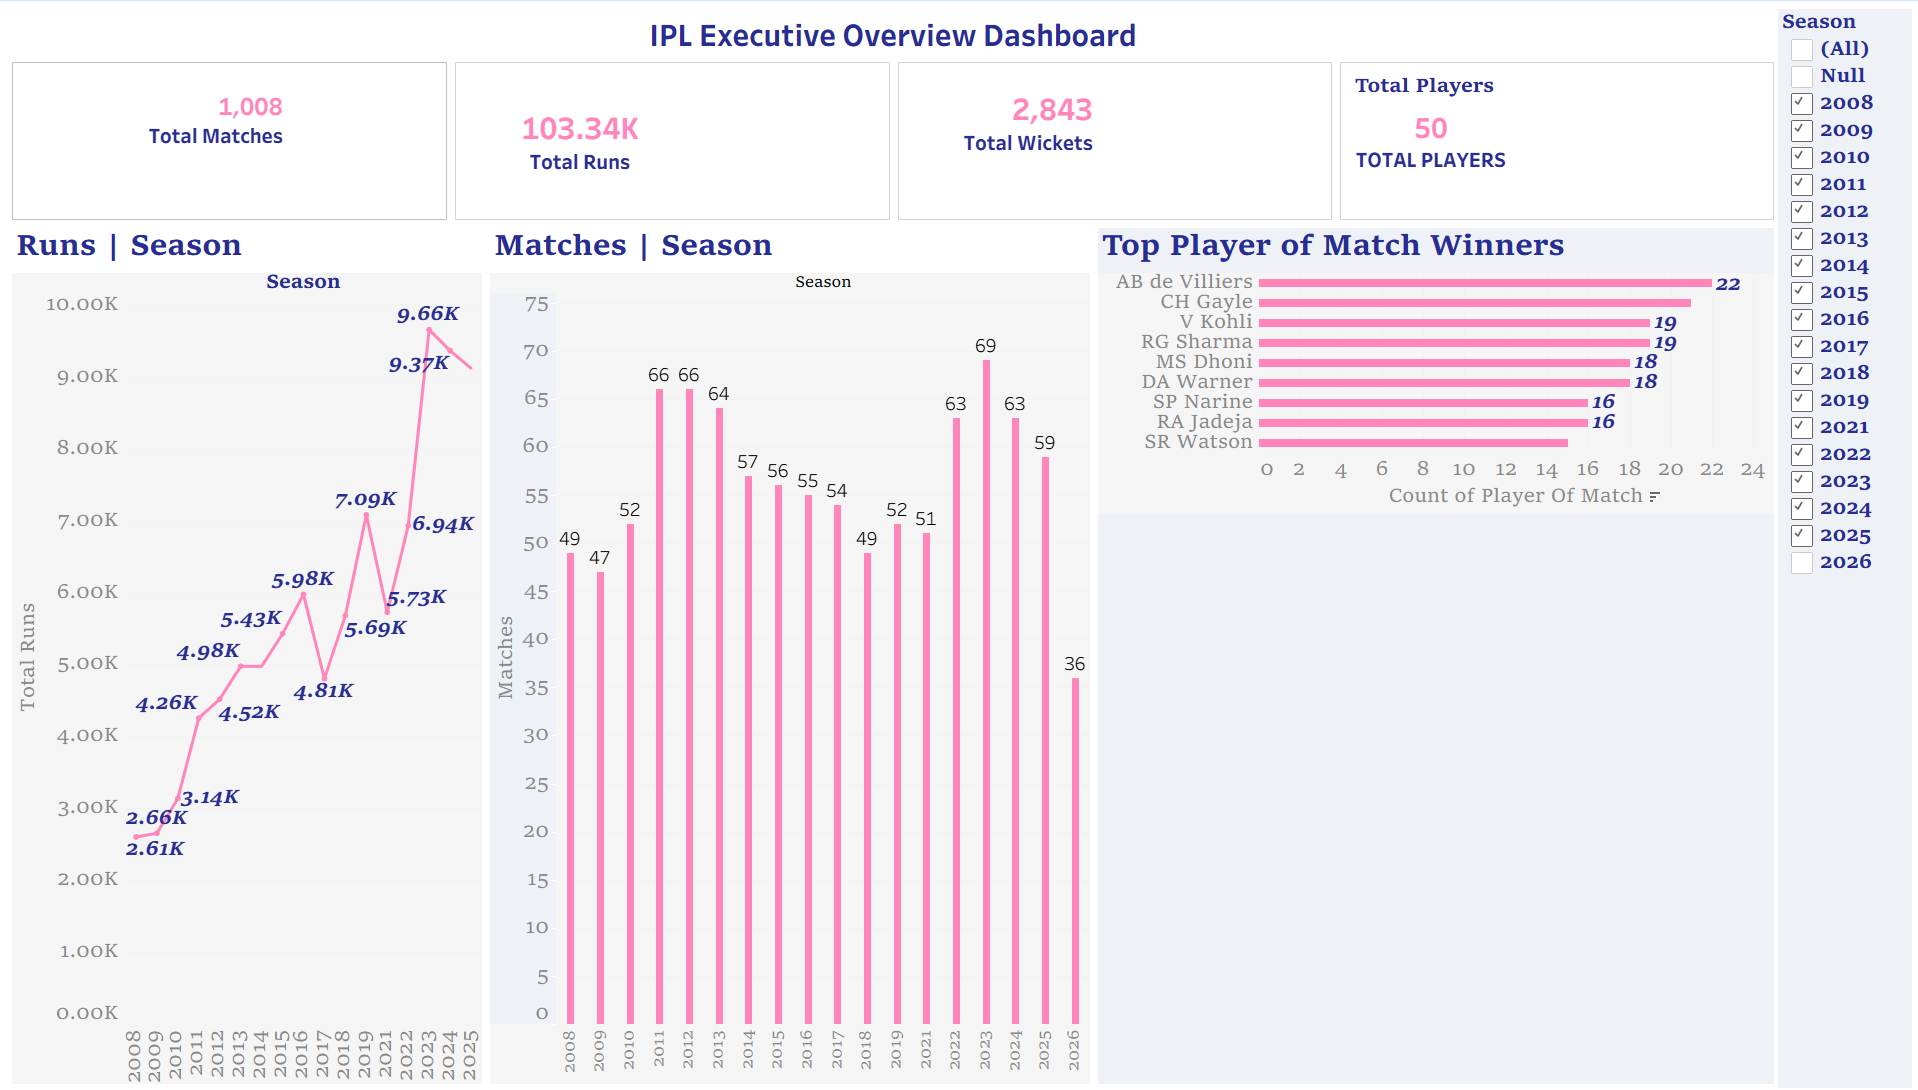

Layout of this report page (visuals, bound fields, positions):
{"tool":"tableau","page":{"name":"IPL Player Scouting Performance Intelligence Dashboard-","canvas":[1000,1000],"units":"permille","ordinal":4},"visuals":[{"type":"title","box":[5.3,9.2,900,56.6]},{"type":"filter","title":"1. Runs by Season","param":"[federated.1uog4mz0wysp1w1ajm3uv0qoibsc].[none:season:ok]","box":[905.3,9.2,89.3,664]},{"type":"worksheet","title":"KPI Total Matches","mark":"Text","box":[5.3,65.8,225.3,191.7]},{"type":"worksheet","title":"KPI - Total Runs","mark":"Automatic","box":[230.7,65.8,225.3,191.7]},{"type":"worksheet","title":"Total Wickets","mark":"Automatic","box":[456,65.8,224.7,191.7]},{"type":"worksheet","title":"Total Players","mark":"Automatic","box":[680.7,65.8,224.7,191.7]},{"type":"worksheet","title":"1. Runs by Season","mark":"Line","rows":["total_runs"],"cols":["season"],"box":[5.3,257.5,243.1,733.2]},{"type":"worksheet","title":"Matches by Season","mark":"Automatic","rows":["match_id"],"cols":["season"],"box":[248.4,257.5,309.1,733.2]},{"type":"worksheet","title":"Top Player of Match Winners","mark":"Automatic","rows":["player_name"],"cols":["player_of_match"],"box":[557.5,257.5,347.8,733.2]}]}

Visuals, with their boxes on the dashboard's canvas, which has no fixed pixel size, in thousandths of its width and height (x1, y1, x2, y2). These are canvas units, not pixel positions in the 1918x1090 screenshot, which may show the page scaled, cropped or inside an application window:
title: {"left": 5, "top": 9, "right": 905, "bottom": 66}
"1. Runs by Season" filter: {"left": 905, "top": 9, "right": 995, "bottom": 673}
"KPI Total Matches" worksheet (Text marks): {"left": 5, "top": 66, "right": 231, "bottom": 258}
"KPI - Total Runs" worksheet: {"left": 231, "top": 66, "right": 456, "bottom": 258}
"Total Wickets" worksheet: {"left": 456, "top": 66, "right": 681, "bottom": 258}
"Total Players" worksheet: {"left": 681, "top": 66, "right": 905, "bottom": 258}
"1. Runs by Season" worksheet (Line marks): {"left": 5, "top": 258, "right": 248, "bottom": 991}
"Matches by Season" worksheet: {"left": 248, "top": 258, "right": 558, "bottom": 991}
"Top Player of Match Winners" worksheet: {"left": 558, "top": 258, "right": 905, "bottom": 991}
